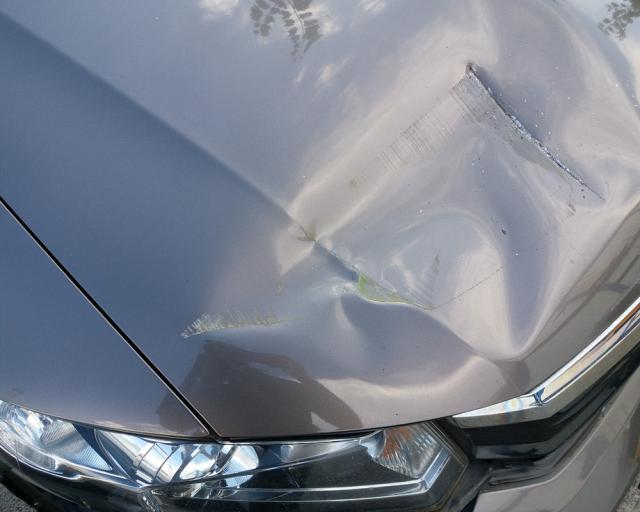dent: (178, 3, 640, 392)
